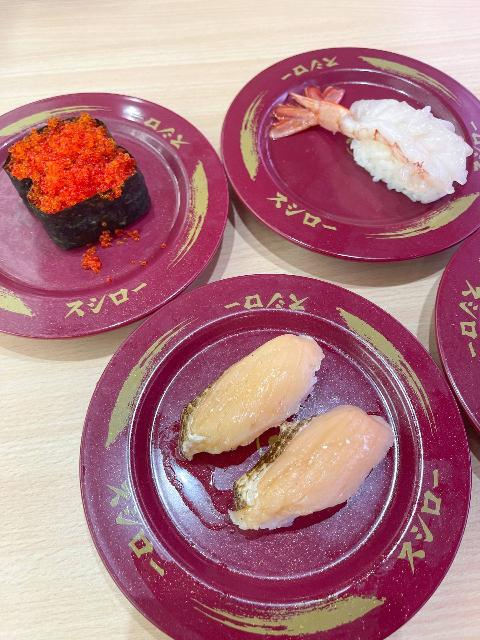janred: (114, 259, 458, 629), (234, 46, 480, 271), (0, 87, 227, 314), (431, 238, 480, 419)
